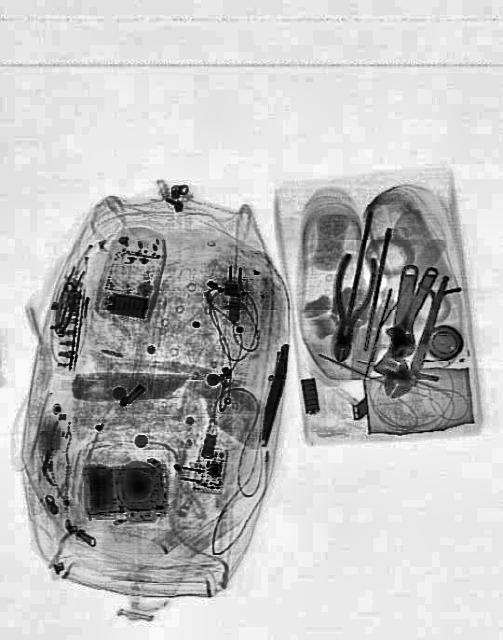Pliers: (318, 248, 382, 364)
Wrench: (367, 259, 431, 401), (378, 256, 446, 366)
